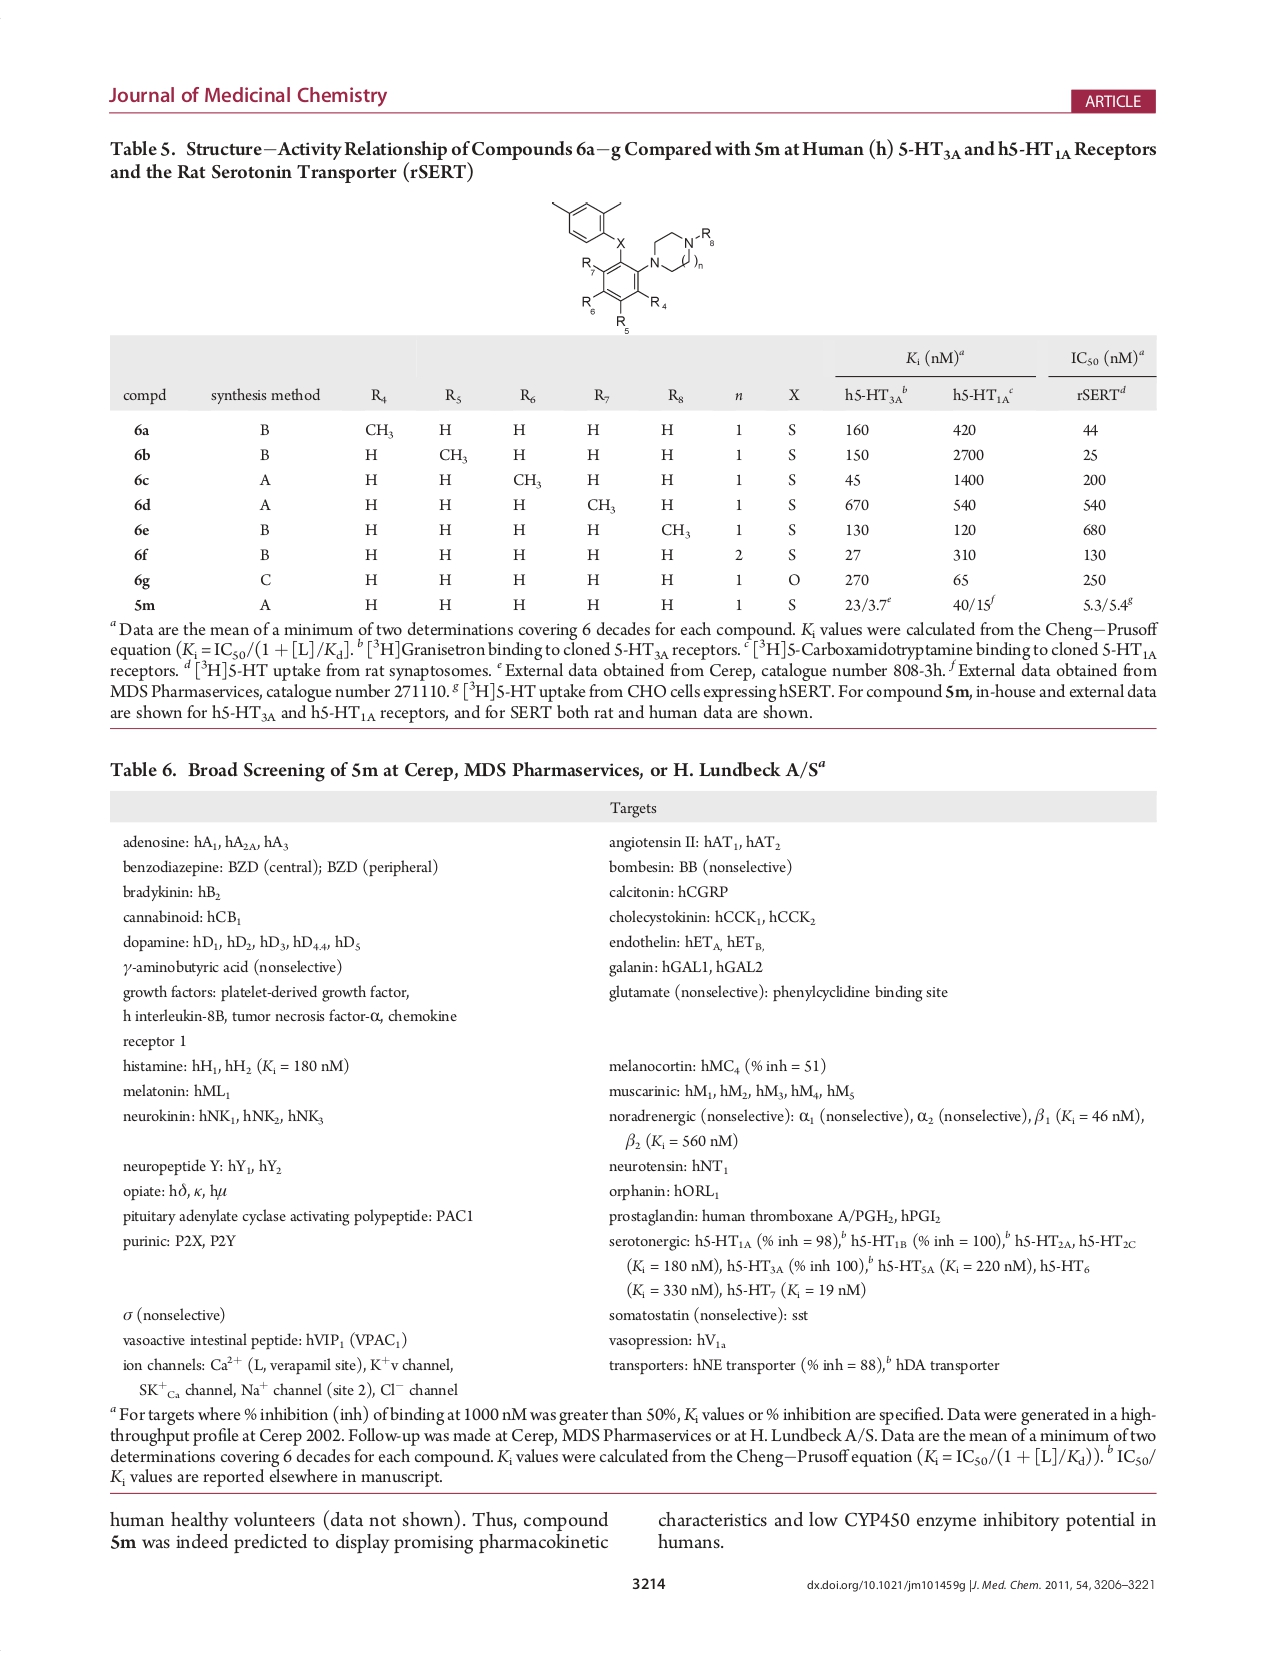exist_molecular: (547, 193, 719, 336)
